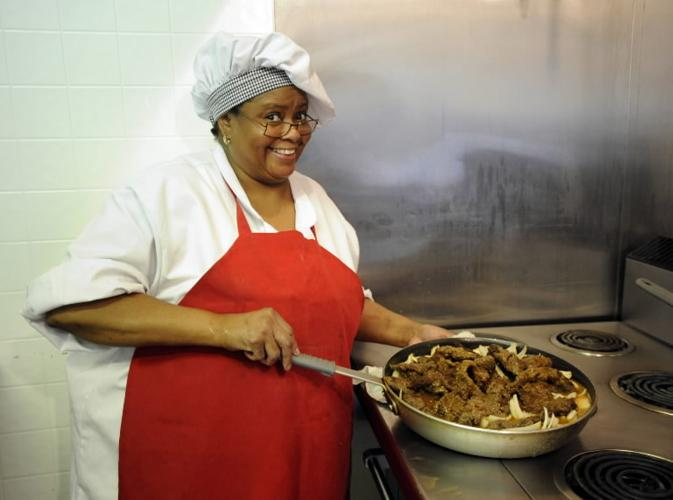person: (23, 25, 461, 500)
